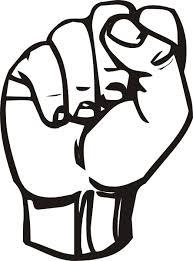fist: (4, 12, 192, 194)
